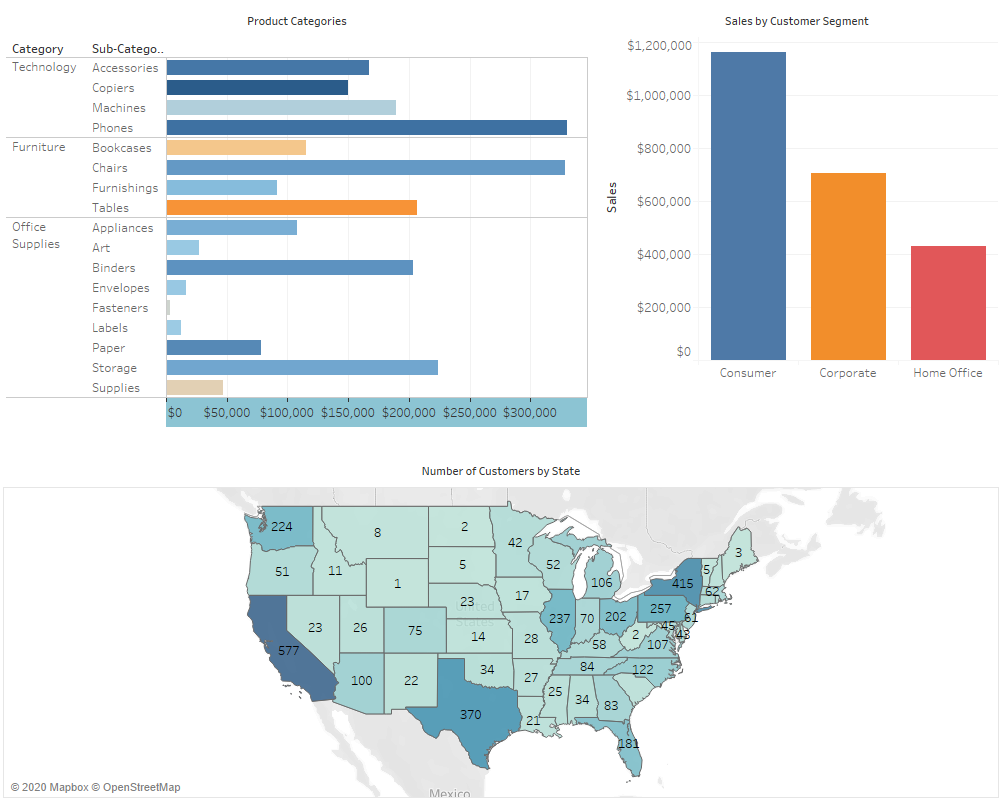

What the dashboard file says about the page in this screenshot:
{"tool":"tableau","page":{"name":"Superstore Market","canvas":[1000,800],"ordinal":1},"visuals":[{"type":"worksheet","title":"Categories","mark":"Automatic","rows":["Category","Sub-Category"],"cols":["Sales"],"box":[6,7,582,450]},{"type":"worksheet","title":"Customer Segment","mark":"Automatic","rows":["Sales"],"cols":["Segment"],"box":[596,7,402,393]},{"type":"worksheet","title":"Customer by State","mark":"Automatic","box":[3,457,996,341]}]}

Visuals, with their boxes in screenshot pixels (x1, y1, x2, y2), scaled from the page's 1000x800 canvas onto the 1000x800 screenshot:
"Categories" worksheet: detection(6, 7, 588, 457)
"Customer Segment" worksheet: detection(596, 7, 998, 400)
"Customer by State" worksheet: detection(3, 457, 999, 798)
